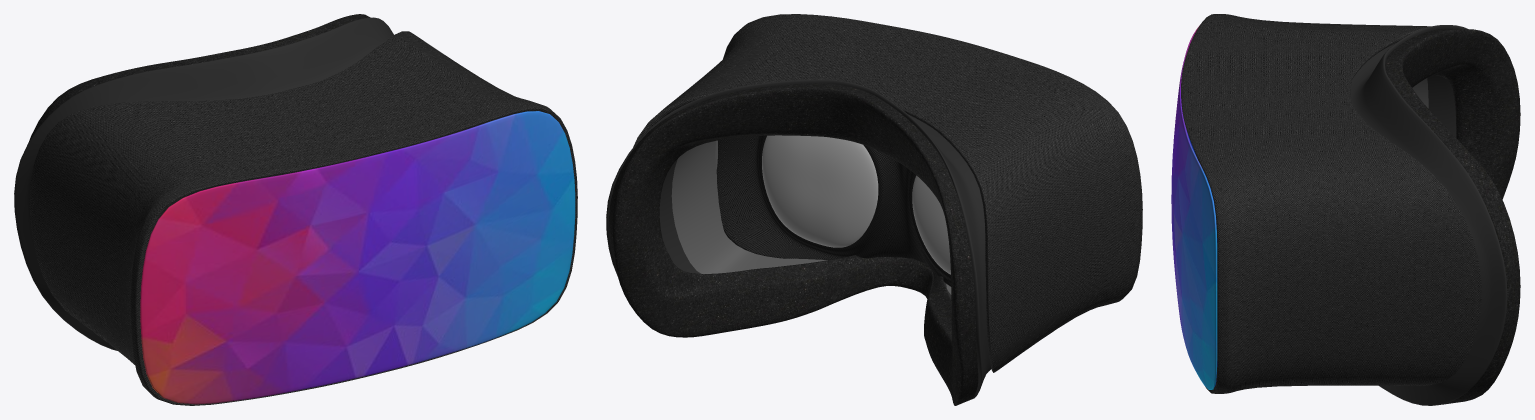
The model's file is Enemy.fbx.
3 renders of one model, left to right at view 1: azimuth 30°, elevation 25°; view 2: azimuth 150°, elevation 25°; view 3: azimuth 270°, elevation 25°, orthographic. The views are drawn at different scales.
Parts seen in each view (by area): view 1: 025_Cube.015, 015_Cube.012, 022_Cube.017, 021_Cube.018; view 2: 015_Cube.012, 021_Cube.018, 018_Cube.024, 019_Cube.023, 022_Cube.017, 023_Cube.017; view 3: 015_Cube.012, 021_Cube.018, 022_Cube.017, 025_Cube.015.
Boxes of the visible parts, box(x1,y1,x2,y2) form: 025_Cube.015: box(140, 111, 575, 404); 015_Cube.012: box(29, 31, 577, 405); 022_Cube.017: box(14, 17, 393, 350); 021_Cube.018: box(28, 14, 370, 142); 015_Cube.012: box(633, 14, 1142, 372); 021_Cube.018: box(609, 83, 978, 405); 018_Cube.024: box(762, 135, 950, 274); 019_Cube.023: box(716, 135, 951, 286); 022_Cube.017: box(606, 79, 991, 399); 023_Cube.017: box(671, 141, 951, 294); 015_Cube.012: box(1181, 14, 1481, 393); 021_Cube.018: box(1385, 28, 1520, 404); 022_Cube.017: box(1351, 25, 1507, 405); 025_Cube.015: box(1171, 25, 1217, 389).
Bounding box in the file's own units: 5642 × 3434 × 3926.
